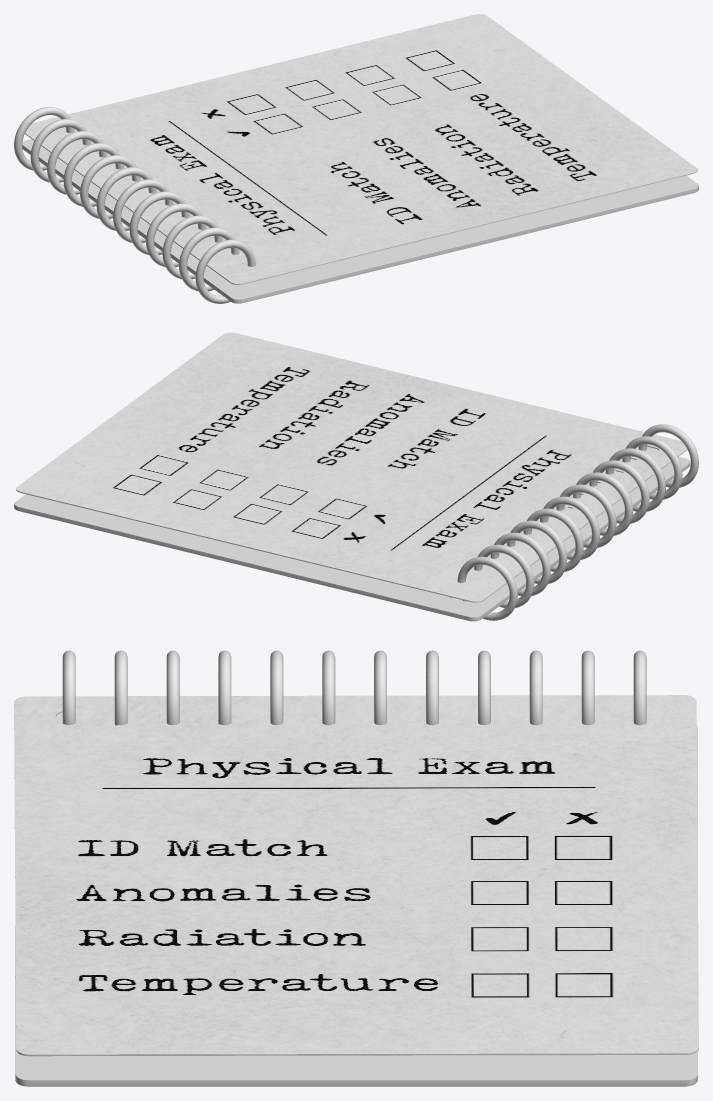
The model's file is Notebook.fbx.
3 views of the same model, one above another, from view 1: azimuth 30°, elevation 25°; view 2: azimuth 150°, elevation 25°; view 3: azimuth 270°, elevation 25° (orthographic). The views are drawn at different scales.
Visible parts, largest first — view 1: Plane.002, Plane.001, BezierCircle, Plane; view 2: Plane.002, Plane.001, BezierCircle, Plane; view 3: Plane.002, Plane, Plane.001, BezierCircle.
Boxes of the visible parts, x1,y1,x2,y2 form: Plane.002: [77, 14, 697, 271]; Plane.001: [22, 139, 698, 303]; BezierCircle: [14, 107, 255, 303]; Plane: [25, 112, 293, 284]; Plane.002: [16, 332, 635, 589]; Plane.001: [14, 457, 690, 621]; BezierCircle: [457, 424, 698, 620]; Plane: [419, 430, 687, 602]; Plane.002: [14, 741, 698, 1056]; Plane: [14, 695, 696, 740]; Plane.001: [15, 726, 697, 1086]; BezierCircle: [62, 650, 646, 725].
Size of the model in its own units: 260 by 31.62 by 201.
